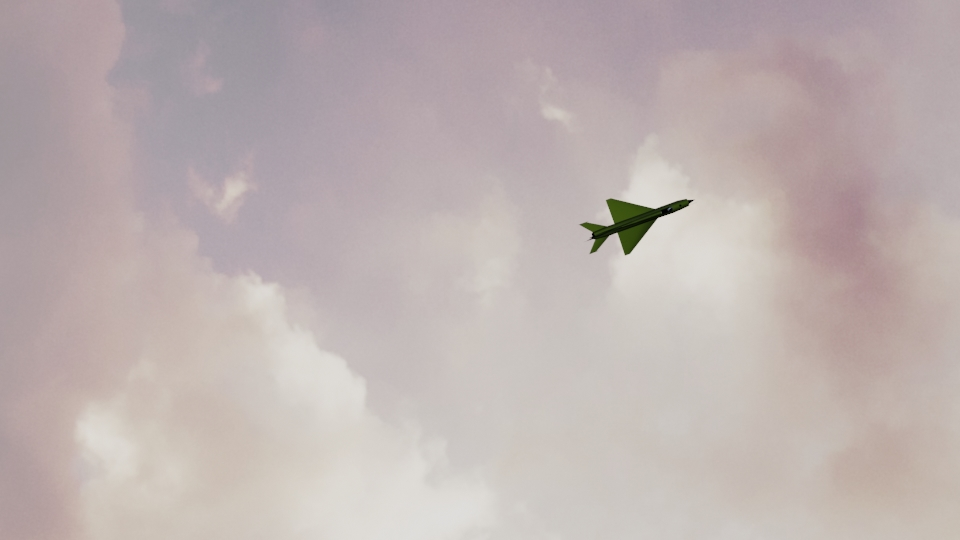plane: (576, 194, 693, 257)
